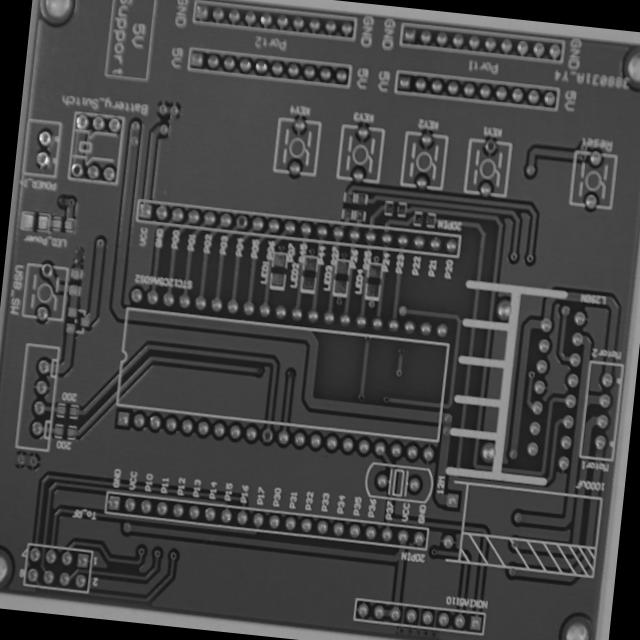missing_hole: (232, 210, 252, 233), (259, 423, 276, 446), (68, 161, 86, 180), (482, 136, 498, 154), (40, 262, 54, 278)
